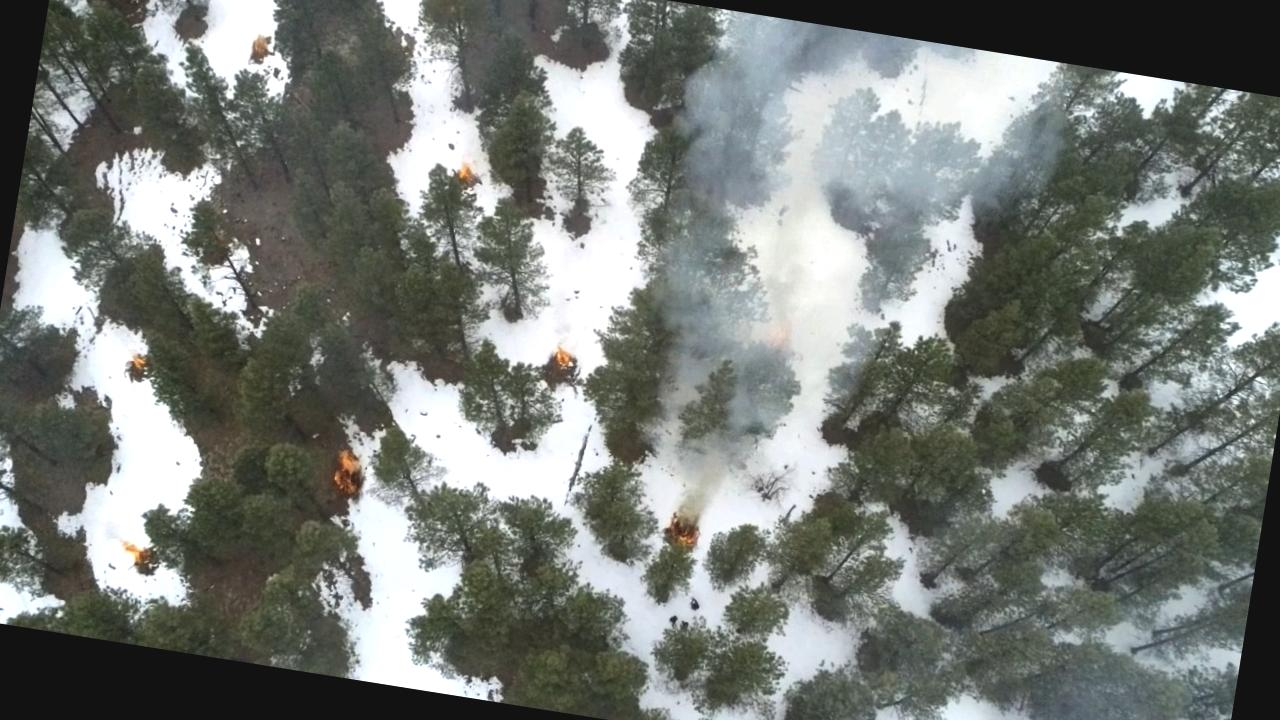fire: (326, 446, 374, 506), (754, 304, 800, 364), (658, 505, 708, 558), (545, 339, 581, 377), (448, 164, 480, 192)
smoke: (653, 4, 1028, 288), (638, 239, 868, 450)
